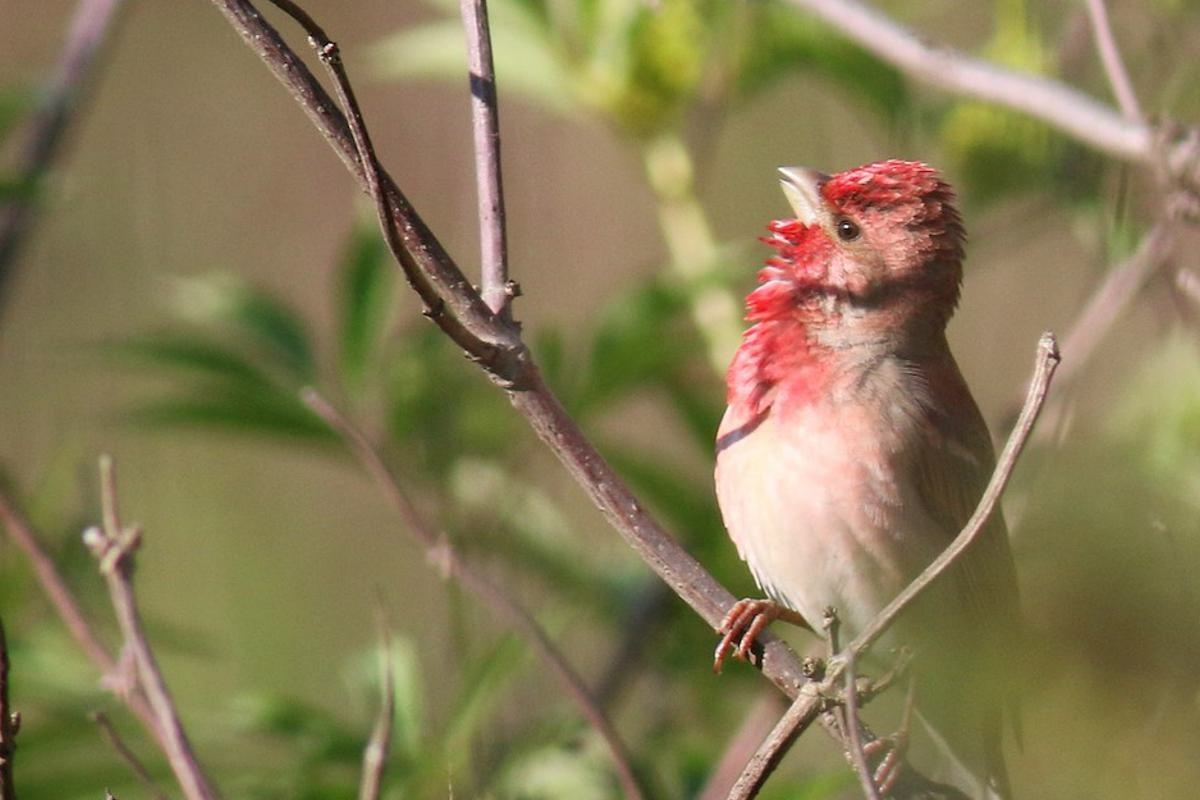rosefinch: (703, 134, 1070, 781)
